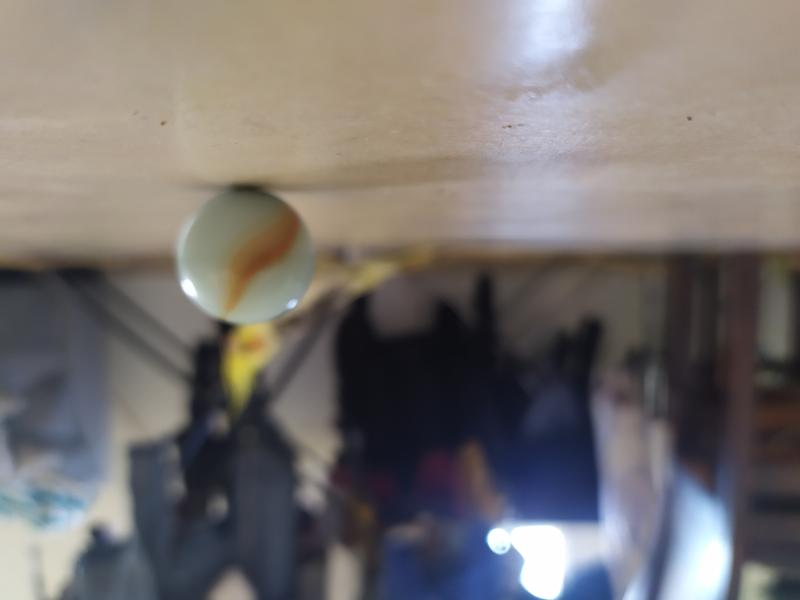Warning: (170, 184, 318, 329)
